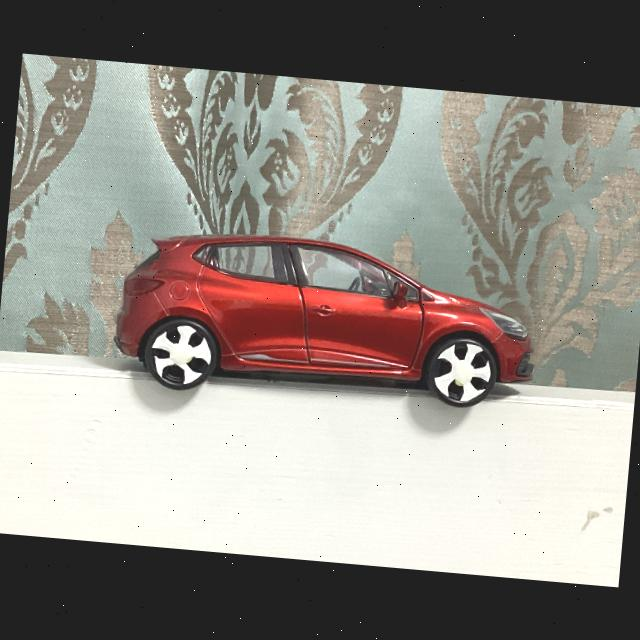Yanlis_Jant: (146, 322, 212, 388), (432, 340, 492, 405)
